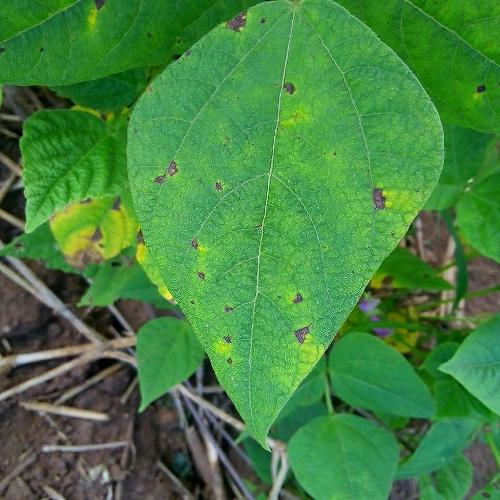hawar: (177, 222, 239, 370), (136, 150, 239, 208), (338, 170, 419, 222), (268, 279, 324, 349), (263, 68, 302, 96)
mozaik: (258, 350, 326, 384), (252, 100, 316, 132)
